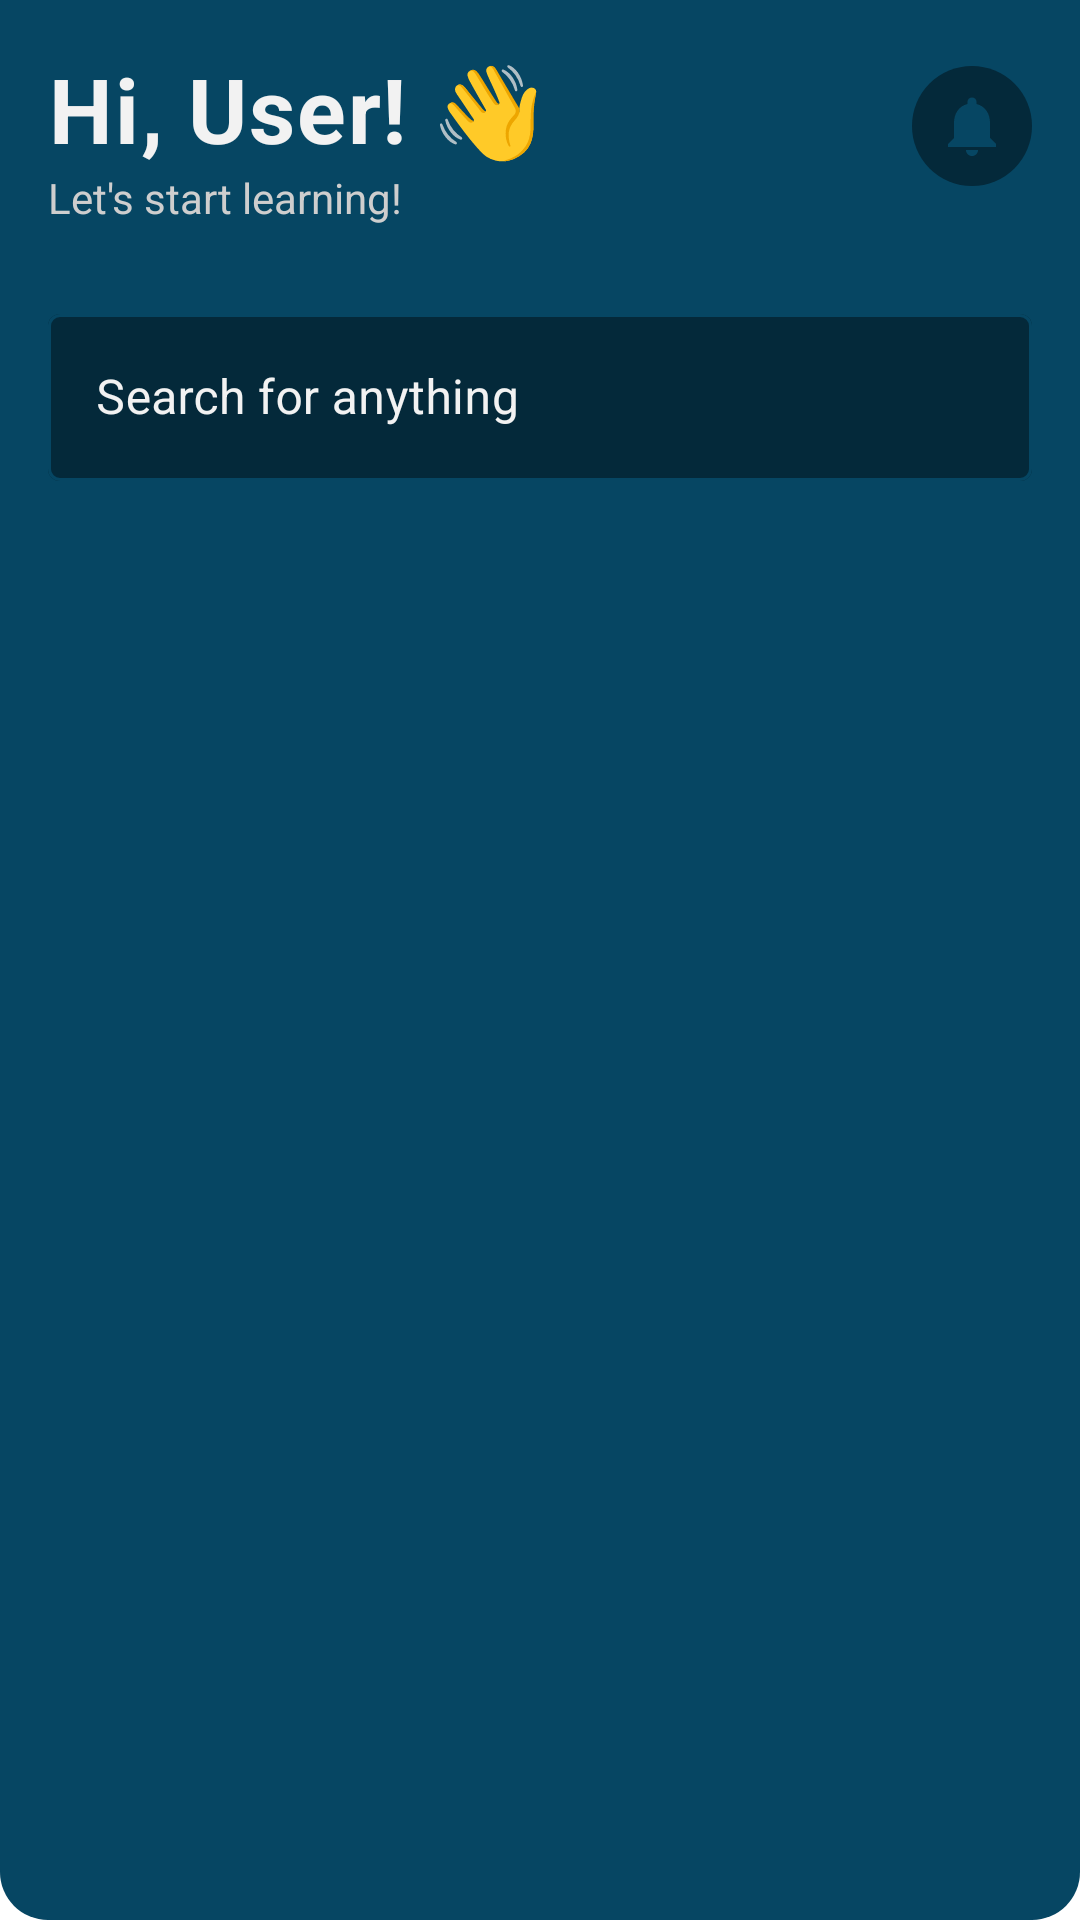

Where to tap for icons on this 1080w x 1920h app screen, as [x,y]:
notifications: [972,126]
